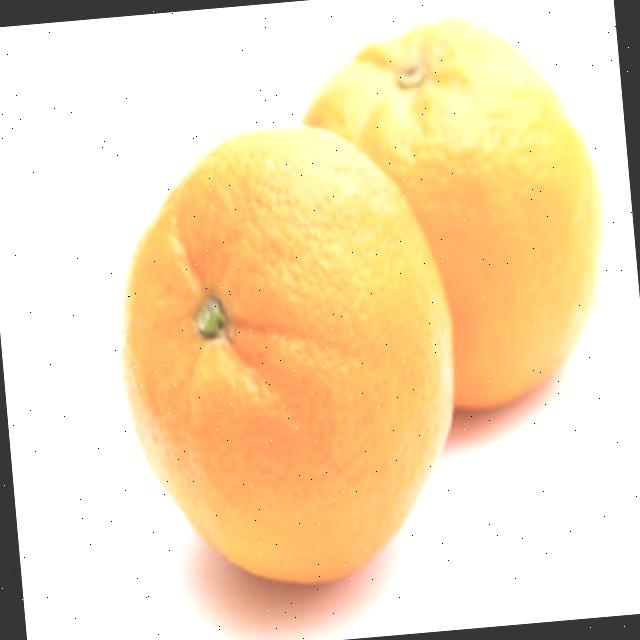orange: (96, 106, 477, 604), (294, 5, 622, 425)
